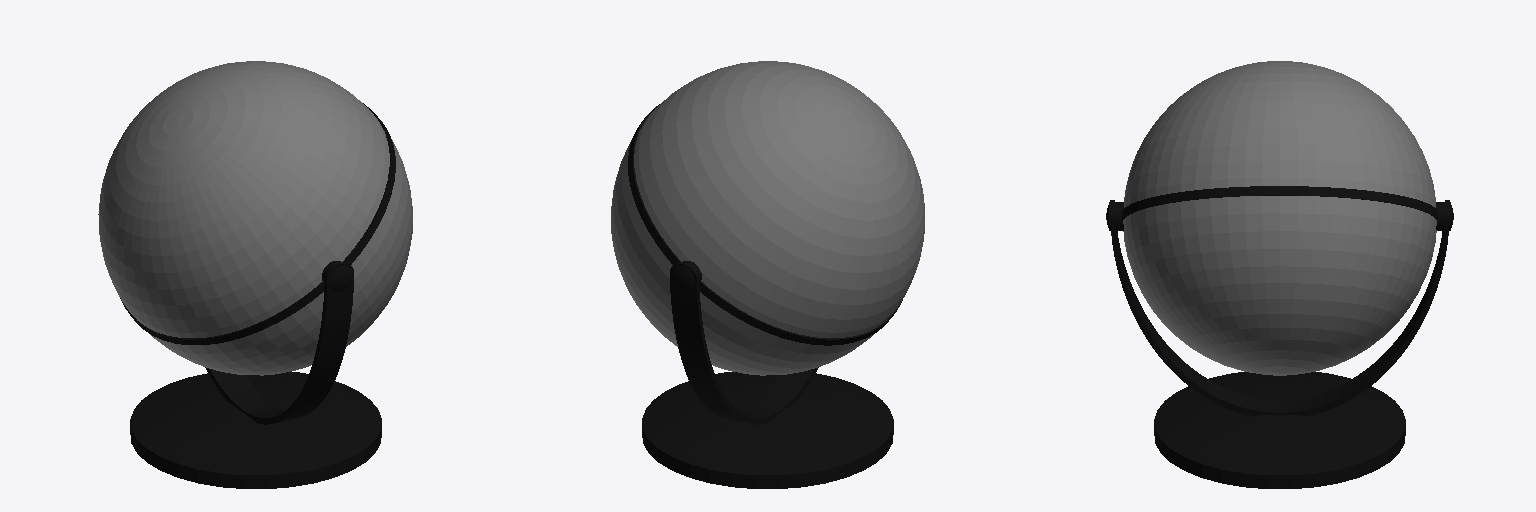
The model's file is Globe.obj.
3 views of the same model, side by side, from view 1: azimuth 30°, elevation 25°; view 2: azimuth 150°, elevation 25°; view 3: azimuth 270°, elevation 25° (orthographic).
Visible parts, largest first — view 1: Sphere001, OilTank001, Tube001, Tube002, OilTank002; view 2: Sphere001, OilTank001, Tube001, Tube002, OilTank002; view 3: Sphere001, OilTank001, Tube001, Tube002, OilTank002.
Boxes of the visible parts, x1=… form: Sphere001: x1=98, y1=61, x2=412, y2=375; OilTank001: x1=130, y1=371, x2=381, y2=488; Tube001: x1=205, y1=262, x2=353, y2=424; Tube002: x1=120, y1=103, x2=395, y2=344; OilTank002: x1=322, y1=261, x2=352, y2=291; Sphere001: x1=611, y1=61, x2=924, y2=375; OilTank001: x1=642, y1=372, x2=893, y2=488; Tube001: x1=670, y1=262, x2=818, y2=424; Tube002: x1=628, y1=104, x2=902, y2=345; OilTank002: x1=671, y1=261, x2=701, y2=291; Sphere001: x1=1123, y1=61, x2=1436, y2=375; OilTank001: x1=1154, y1=372, x2=1405, y2=488; Tube001: x1=1110, y1=200, x2=1449, y2=415; Tube002: x1=1122, y1=186, x2=1437, y2=219; OilTank002: x1=1106, y1=202, x2=1453, y2=230.
Bounding box in the file's own units: 99.89 × 126 × 110.